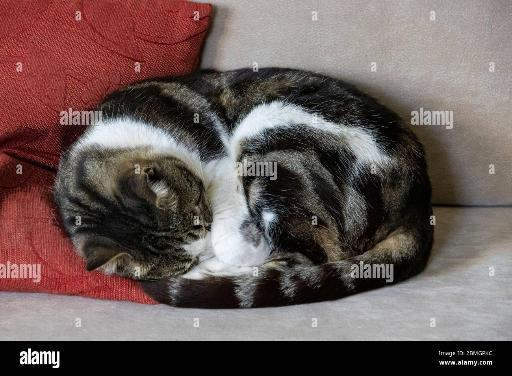cat_sleeping: (54, 68, 433, 308)
